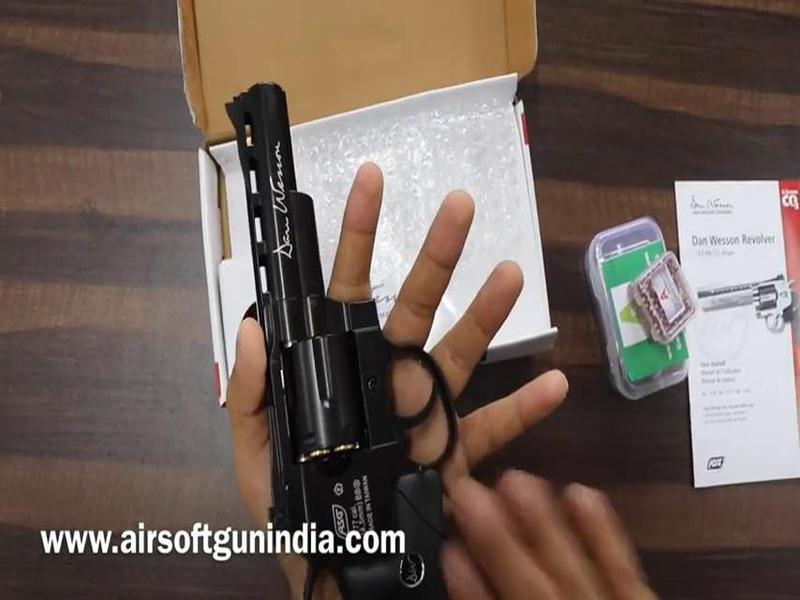Revolver: (199, 63, 541, 600)
